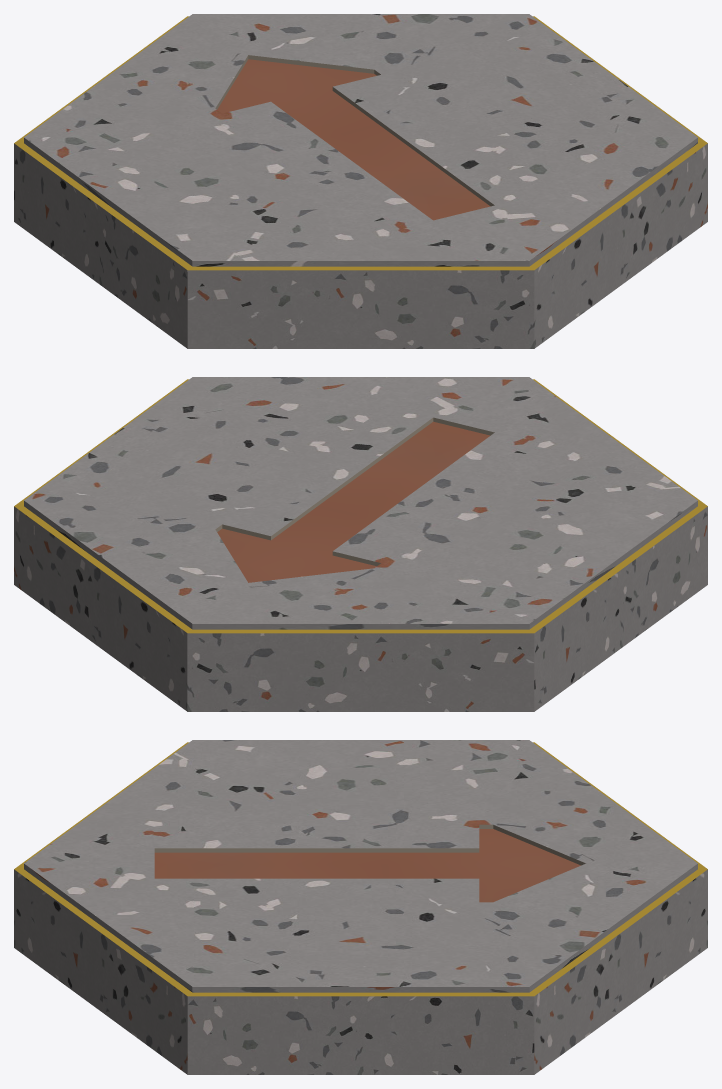
The model's file is terrazzoTile_arrow.fbx.
3 renders of one model, top to bottom at view 1: azimuth 30°, elevation 25°; view 2: azimuth 150°, elevation 25°; view 3: azimuth 270°, elevation 25°, orthographic.
Parts seen in each view (by area): view 1: terrazzoTile_arrow; view 2: terrazzoTile_arrow; view 3: terrazzoTile_arrow.
Boxes of the visible parts, x1,y1,x2,y2 form: terrazzoTile_arrow: (14, 14, 707, 348); terrazzoTile_arrow: (14, 377, 707, 711); terrazzoTile_arrow: (14, 740, 707, 1074).
Bounding box in the file's own units: 200 × 30.98 × 231.
